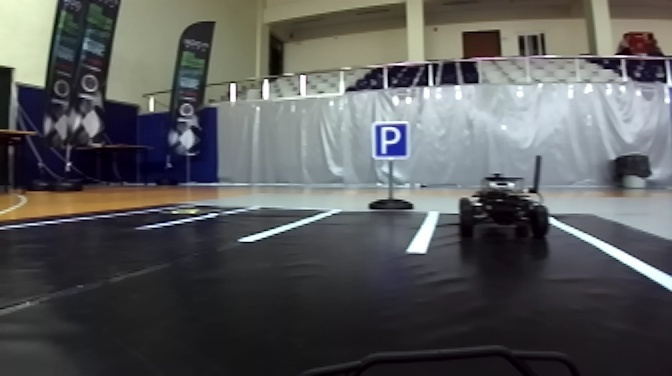park: (370, 122, 414, 162)
